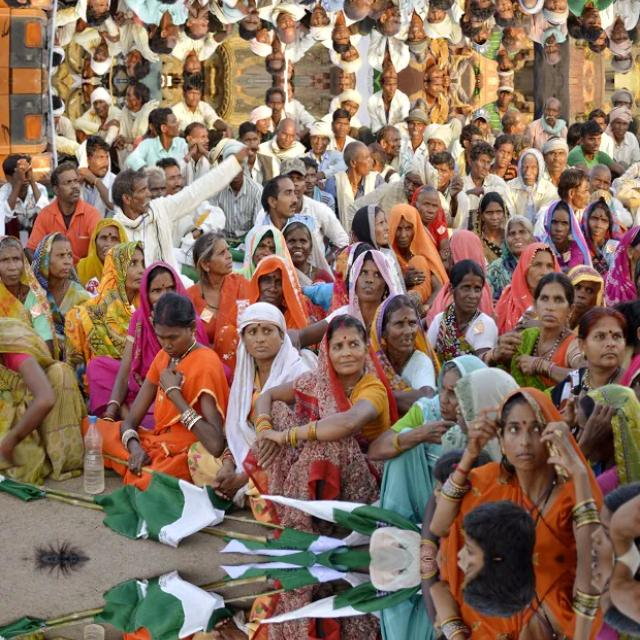person: (477, 389, 599, 546), (294, 315, 381, 509), (137, 295, 213, 513), (227, 298, 293, 432), (477, 571, 599, 640), (517, 270, 577, 384), (438, 256, 498, 370), (110, 170, 182, 264), (31, 162, 107, 248), (194, 226, 248, 322), (574, 306, 630, 390), (335, 133, 385, 209), (384, 200, 434, 270), (539, 196, 583, 274), (512, 143, 556, 211), (293, 609, 380, 640), (137, 605, 213, 640), (140, 104, 182, 164), (139, 0, 182, 55), (604, 104, 638, 170), (603, 0, 638, 56), (335, 0, 385, 27), (275, 114, 301, 160), (275, 0, 301, 46), (511, 0, 556, 17)
